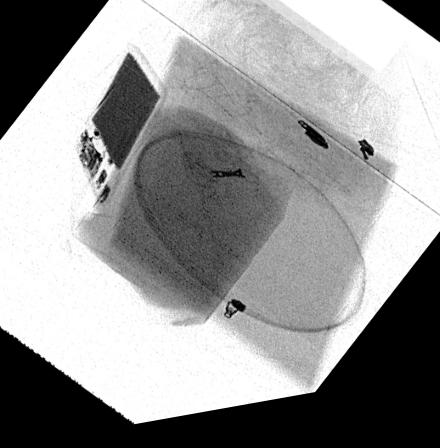Powerbank: (65, 47, 170, 209)
